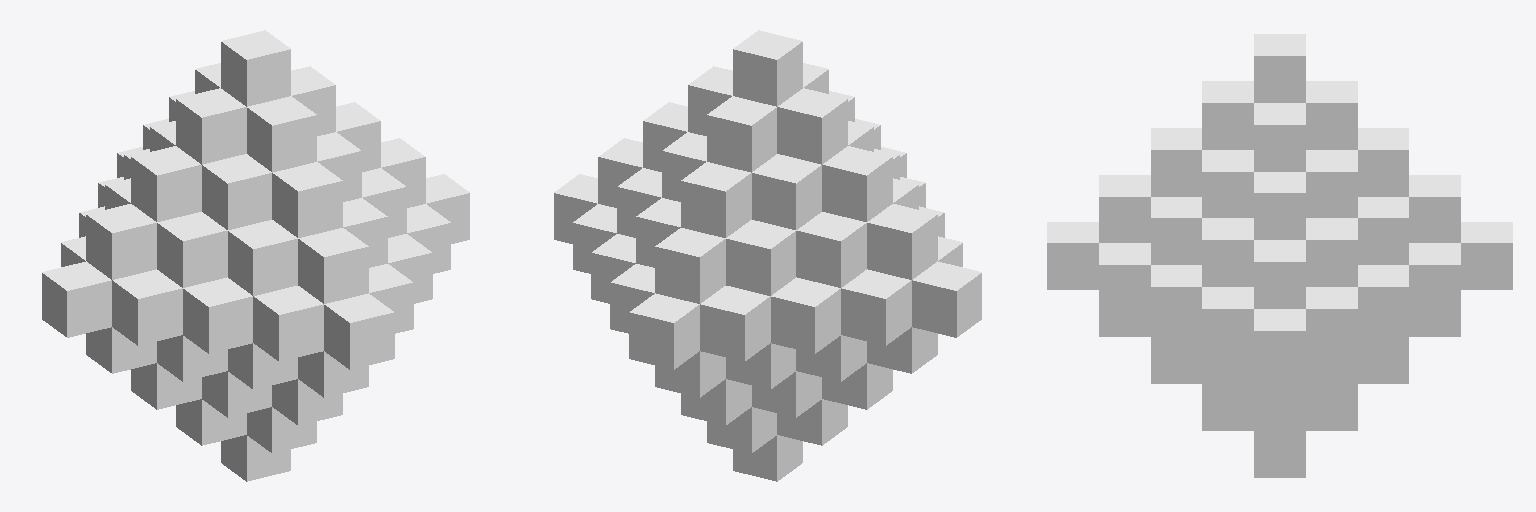
The model's file is ChronoRepeater.obj.
3 views of the same model, side by side, from view 1: azimuth 30°, elevation 25°; view 2: azimuth 150°, elevation 25°; view 3: azimuth 270°, elevation 25° (orthographic).
Parts seen in each view (by area): view 1: object 1; view 2: object 1; view 3: object 1.
Boxes of the visible parts, box(x1,y1,x2,y2) form: object 1: box(42, 30, 469, 481); object 1: box(554, 30, 981, 481); object 1: box(1047, 34, 1512, 477).
Size of the model in its own units: 0.9 by 0.9 by 0.9.